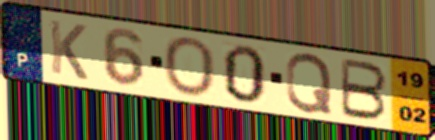0: (221, 43, 269, 106)
6: (100, 27, 146, 88)
B: (338, 56, 390, 122)
K: (47, 17, 90, 83)
O: (161, 35, 217, 99)
Q: (283, 51, 334, 116)
